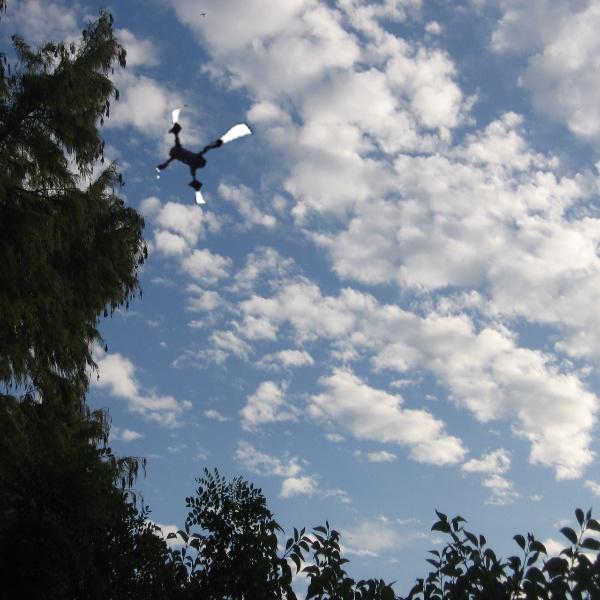drone: (147, 97, 262, 212)
